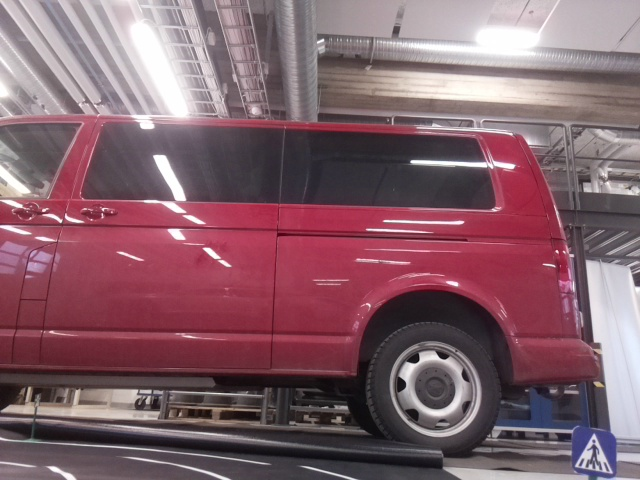Crosswalk: (572, 422, 617, 477)
